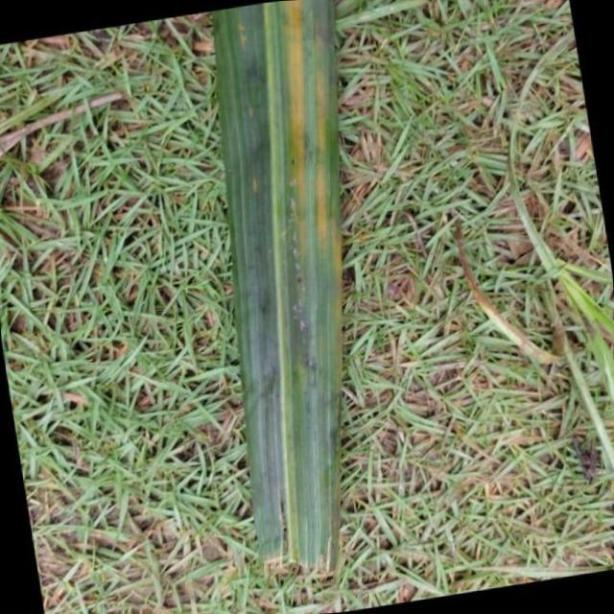Megnesium: (209, 10, 347, 594)
